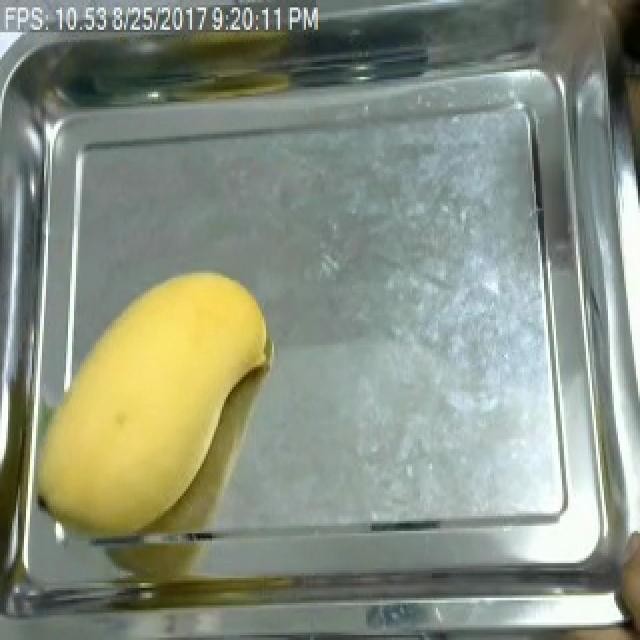fruit: (28, 255, 280, 556), (608, 498, 640, 640)
